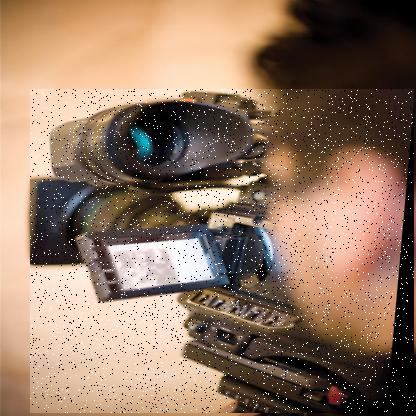Camera: (31, 90, 416, 415)
